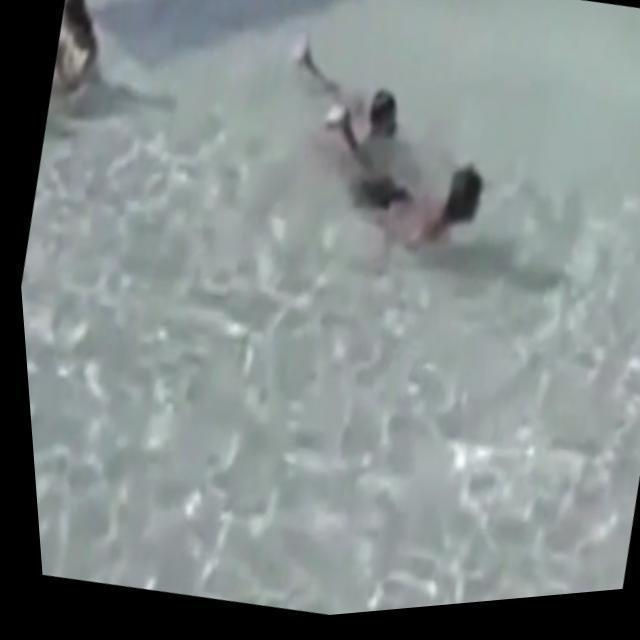swimming: (284, 115, 494, 263), (285, 38, 430, 146)
